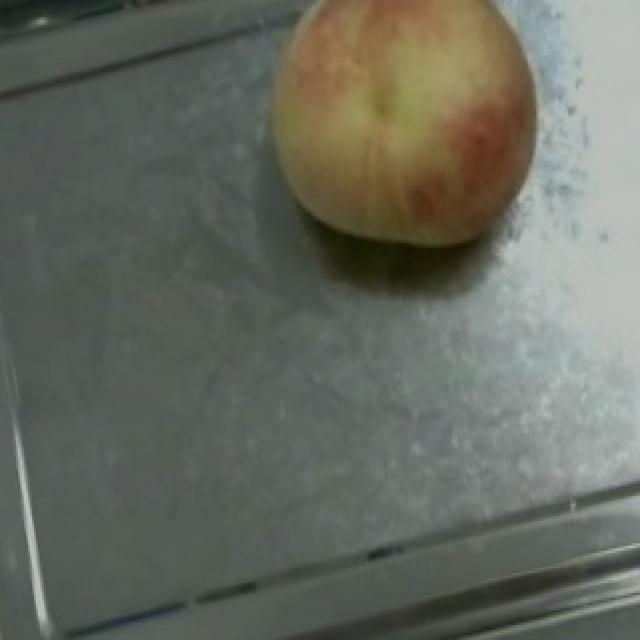Fruit: (226, 0, 556, 288)
